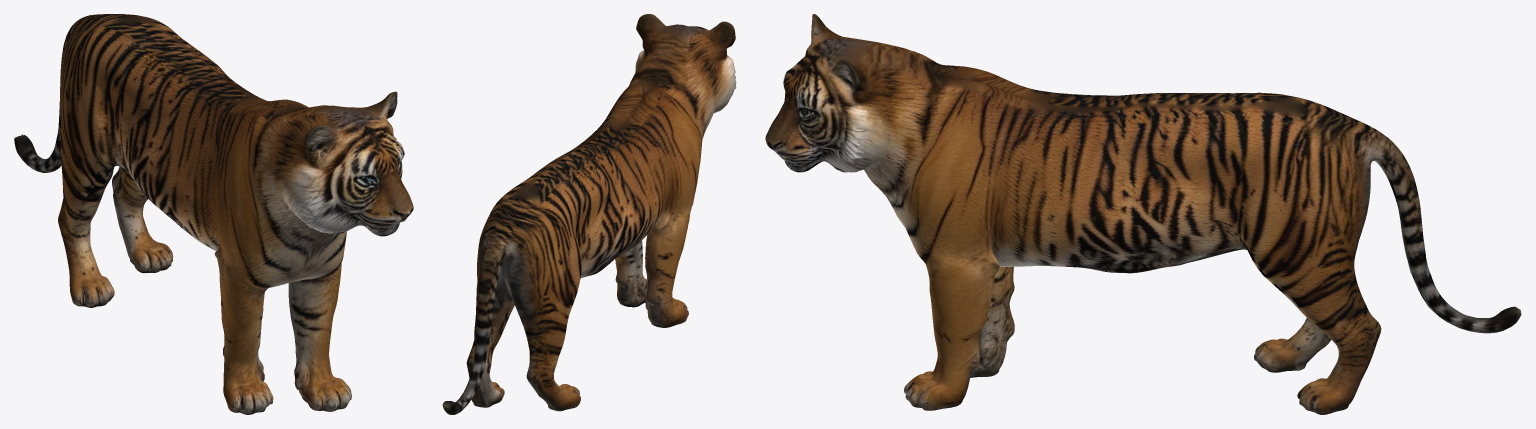
Rendered from tiger--sumatran.glb.
3 views of the same model, side by side, from view 1: azimuth 30°, elevation 25°; view 2: azimuth 150°, elevation 25°; view 3: azimuth 270°, elevation 25° (orthographic). The views are drawn at different scales.
Parts seen in each view (by area): view 1: node_0; view 2: node_0; view 3: node_0.
Boxes of the visible parts, box(x1,y1,x2,y2) form: node_0: box(14, 14, 413, 414); node_0: box(442, 14, 736, 414); node_0: box(765, 14, 1521, 414).
Bounding box in the file's own units: 0.2321 × 0.5948 × 1.15.
1 material, 1 textured.
